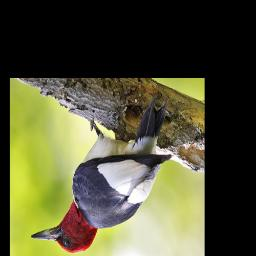Woodpecker: (32, 96, 172, 252)
